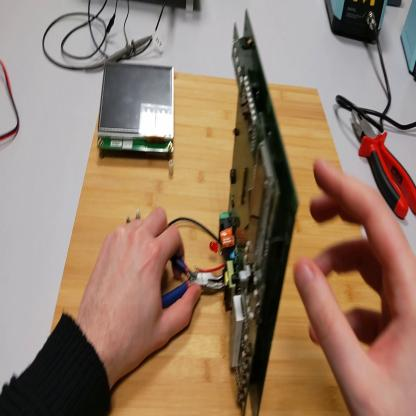hand: (297, 158, 416, 416), (81, 207, 200, 376)
low voltage board: (166, 5, 299, 415)
oscilloscope probe tip: (85, 34, 154, 72)
pliers: (354, 108, 416, 221), (163, 253, 223, 306)
socket: (389, 1, 402, 9)
welder base: (401, 1, 416, 80)
welder station: (325, 1, 388, 47)
working area: (41, 74, 385, 415)
